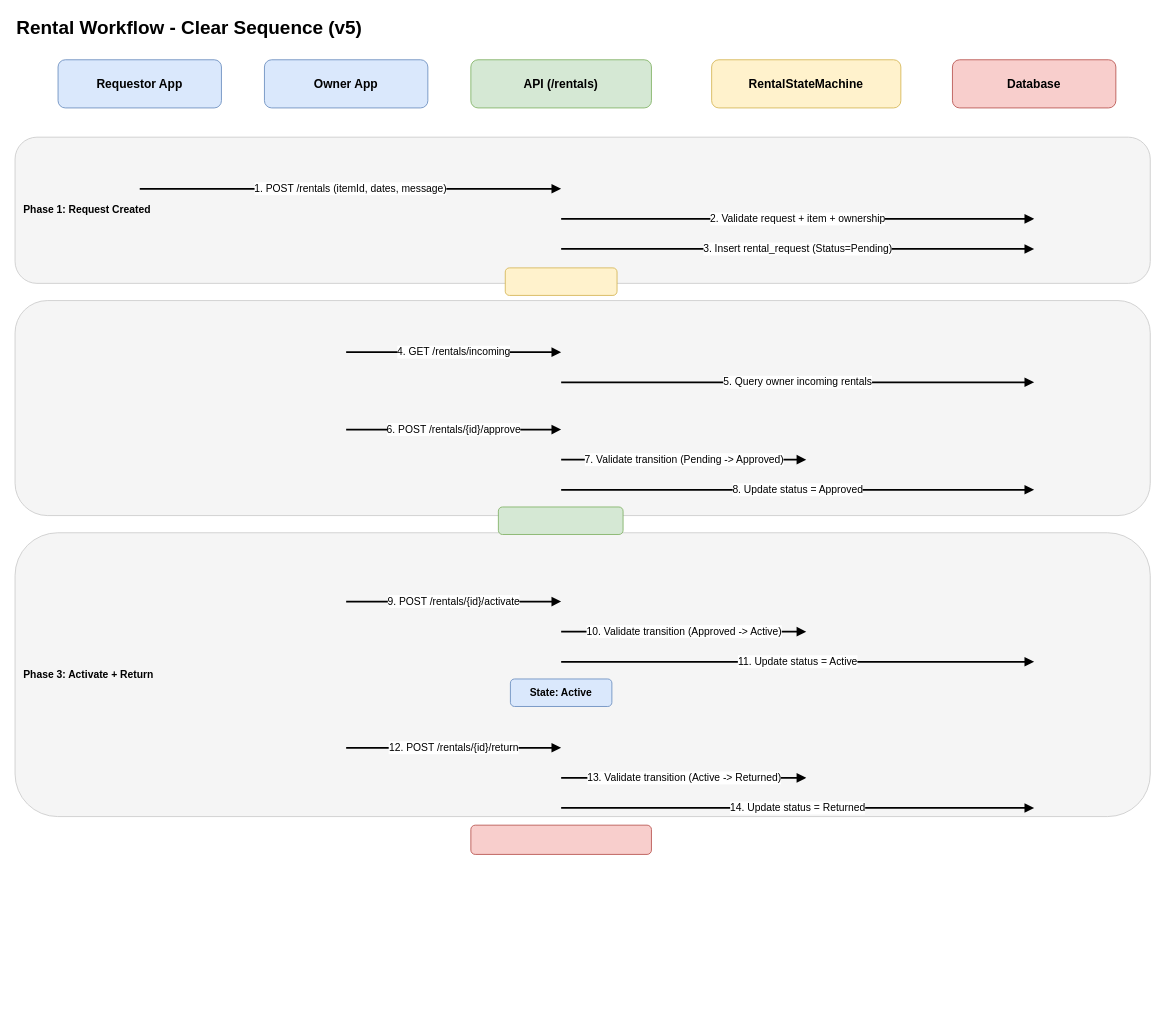
The diagram is 1165 pixels wide and 1029 high, and some of its shapes have lost their labels. The shapes that lost their labels are listed below. From the top down, each one's centre as x and y in pixels, then its label:
At point (560, 281): "State: Pending".
At point (582, 408): "Phase 2: Owner Reviews + Approves".
At point (560, 520): "State: Approved".
At point (560, 839): "State: Returned (terminal)".
